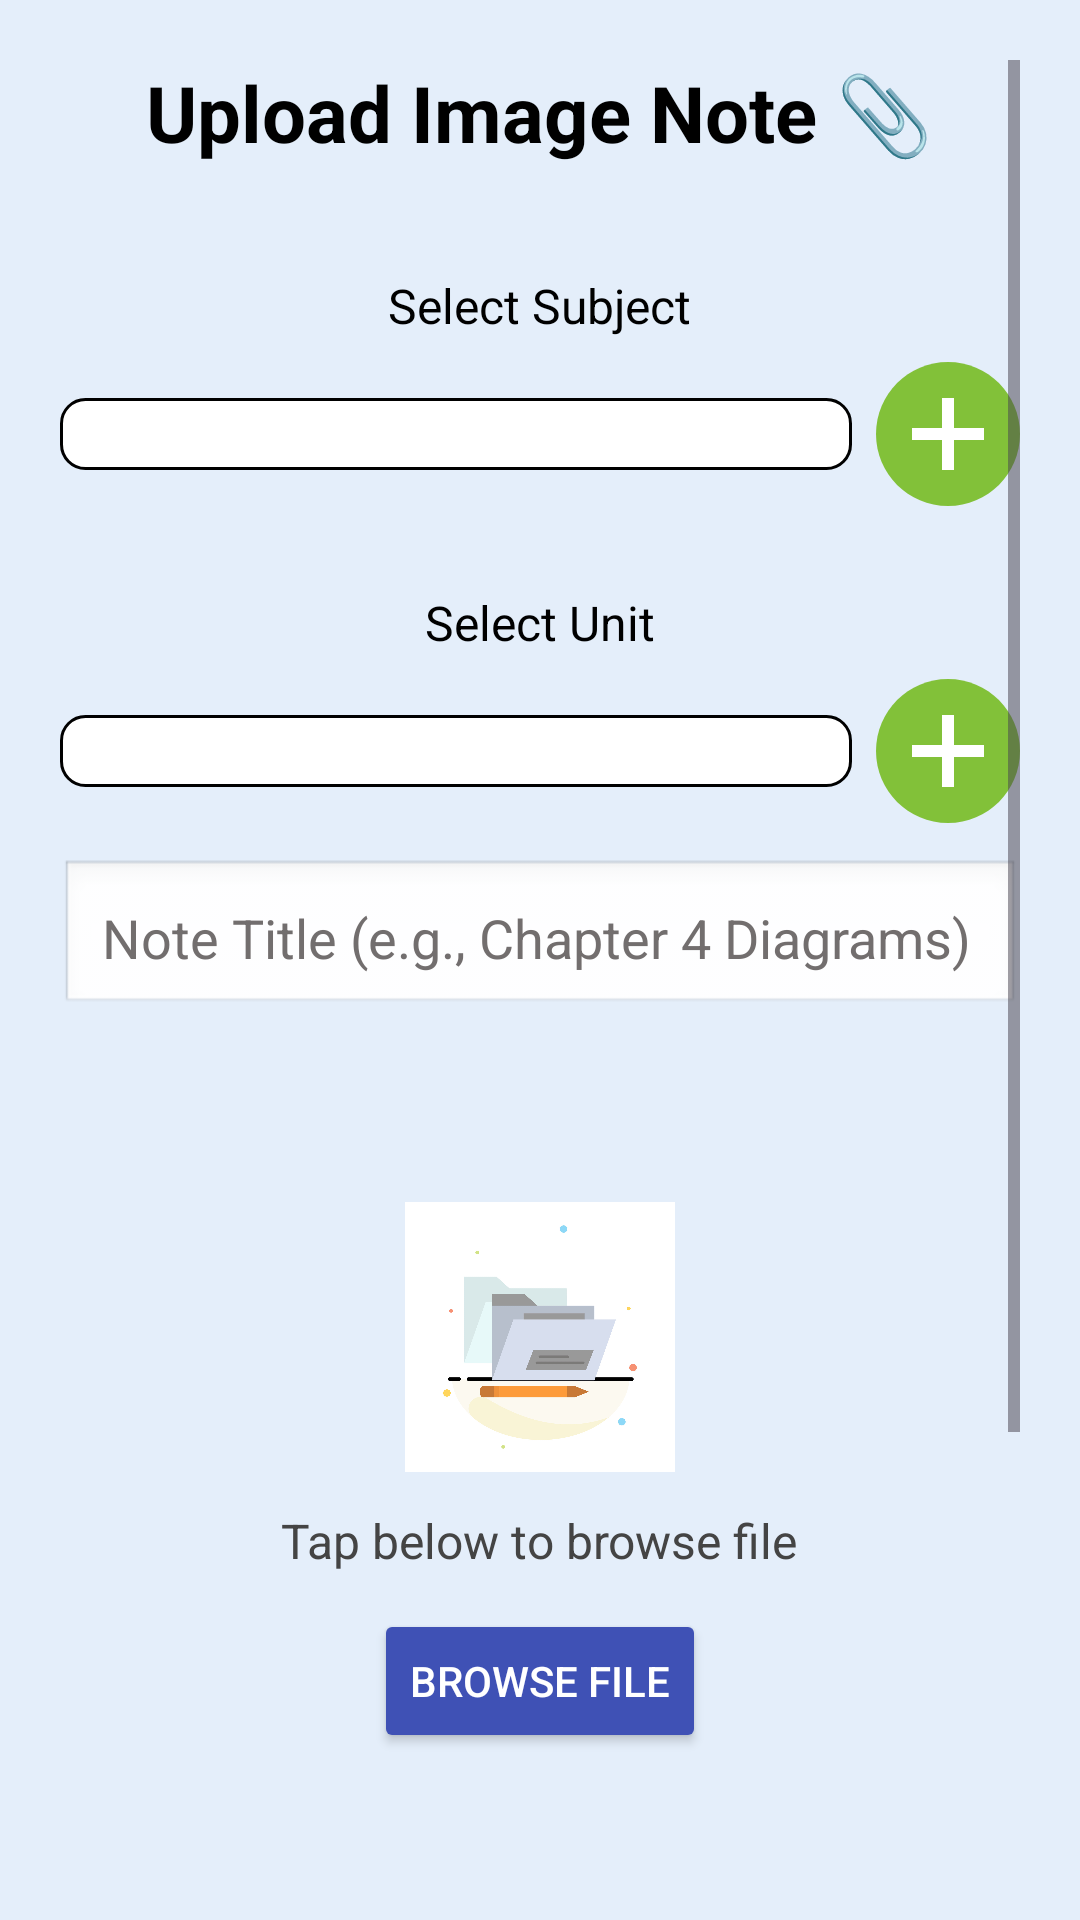

Icon bounding boxes for this 1080x1920 phone screenshot, format (x1, y1, x2, y2):
Add Subject: (876, 362, 1020, 506)
Add Unit: (876, 679, 1020, 823)
folder: (405, 1202, 675, 1472)
